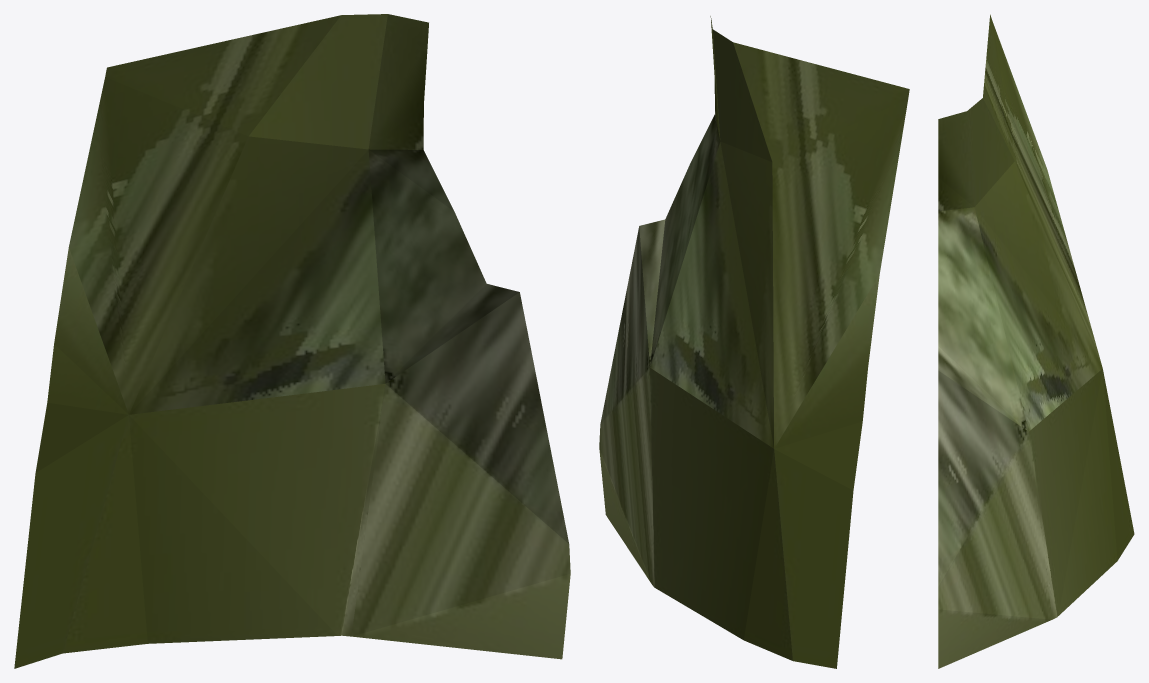
The picture shows the model from 3 angles, left to right: view 1: azimuth 30°, elevation 25°; view 2: azimuth 150°, elevation 25°; view 3: azimuth 270°, elevation 25°; orthographic projection. The views are drawn at different scales.
Size of the model in its own units: 1.98 by 2.95 by 1.05.
2 materials, 2 textured.
